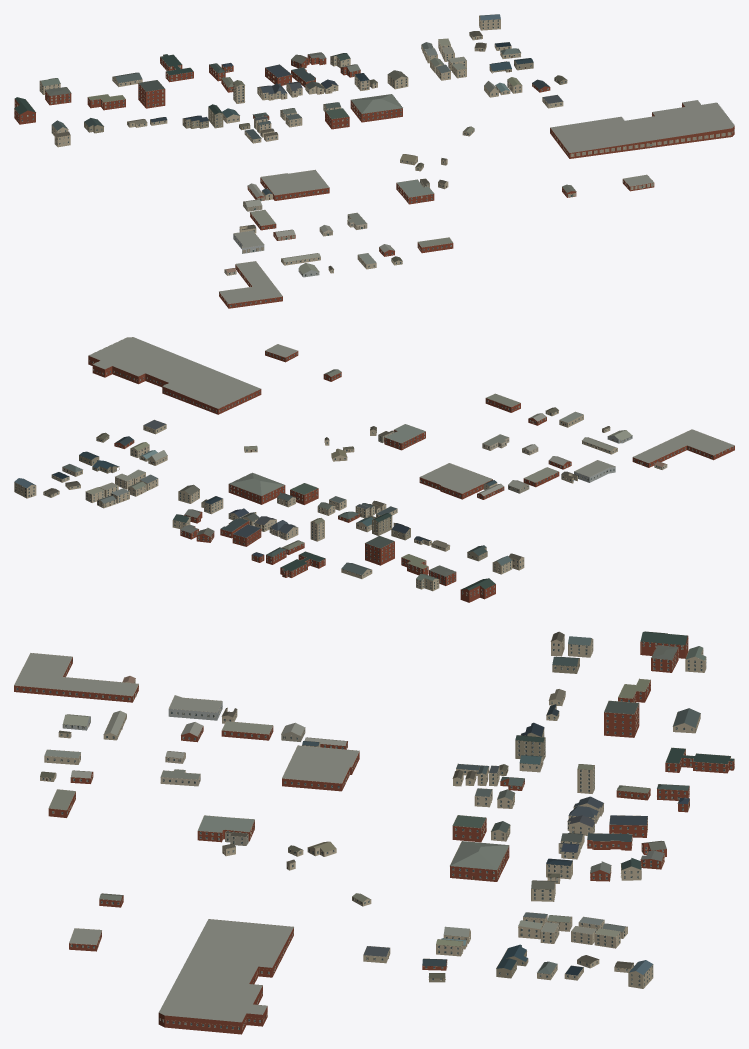
3 views of the same model, one above another, from view 1: azimuth 30°, elevation 25°; view 2: azimuth 150°, elevation 25°; view 3: azimuth 270°, elevation 25° (orthographic). The views are drawn at different scales.
Visible parts, largest first — view 1: 1_0_313154910_0, 1_0_599494728_15, 1_0_629313666_31; view 2: 1_0_313154910_0, 1_0_599494728_15, 1_0_629313666_31; view 3: 1_0_313154910_0, 1_0_599494728_15, 1_0_629313666_31.
Boxes of the visible parts, box(x1,y1,x2,y2) form: 1_0_313154910_0: box(14, 14, 734, 308); 1_0_599494728_15: box(39, 15, 563, 273); 1_0_629313666_31: box(84, 60, 567, 133); 1_0_313154910_0: box(14, 337, 734, 602); 1_0_599494728_15: box(14, 410, 617, 591); 1_0_629313666_31: box(79, 435, 487, 561); 1_0_313154910_0: box(14, 631, 734, 1034); 1_0_599494728_15: box(40, 636, 706, 988); 1_0_629313666_31: box(429, 658, 579, 982).
Bounding box in the file's own units: 624 × 40.21 × 500.
